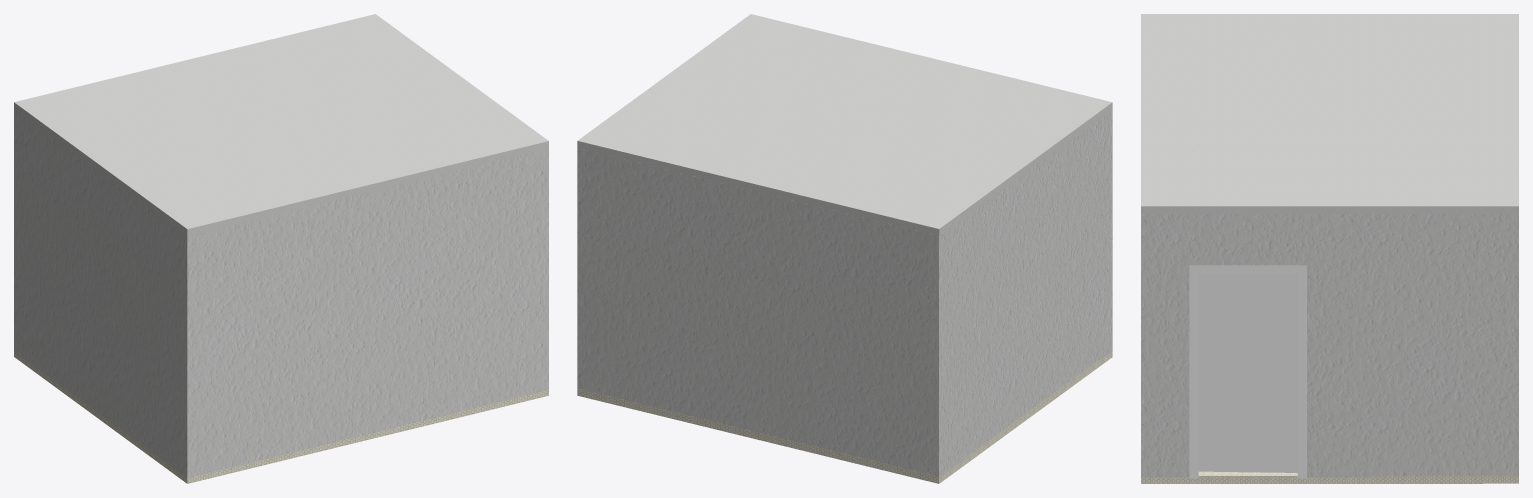
File: FloorPlan404_physics.fbx
The picture shows the model from 3 angles, left to right: view 1: azimuth 30°, elevation 25°; view 2: azimuth 150°, elevation 25°; view 3: azimuth 270°, elevation 25°; orthographic projection. The views are drawn at different scales.
Parts seen in each view (by area): view 1: FP404:Walls, FP404:Ceiling, FP404:Floor; view 2: FP404:Walls, FP404:Ceiling, FP404:Floor; view 3: FP404:Ceiling, FP404:Walls, FP404:polySurface386, FP404:polySurface159, FP404:Floor.
Part boxes in pixels (x1,y1,x2,y2): FP404:Walls: [14, 109, 548, 477]; FP404:Ceiling: [14, 14, 548, 236]; FP404:Floor: [14, 351, 548, 483]; FP404:Walls: [577, 110, 1112, 477]; FP404:Ceiling: [577, 14, 1112, 235]; FP404:Floor: [577, 351, 1112, 483]; FP404:Ceiling: [1141, 14, 1518, 214]; FP404:Walls: [1141, 214, 1518, 477]; FP404:polySurface386: [1198, 273, 1297, 472]; FP404:polySurface159: [1189, 265, 1306, 478]; FP404:Floor: [1141, 471, 1518, 483].
Size of the model in its own units: 433 by 291 by 359.
